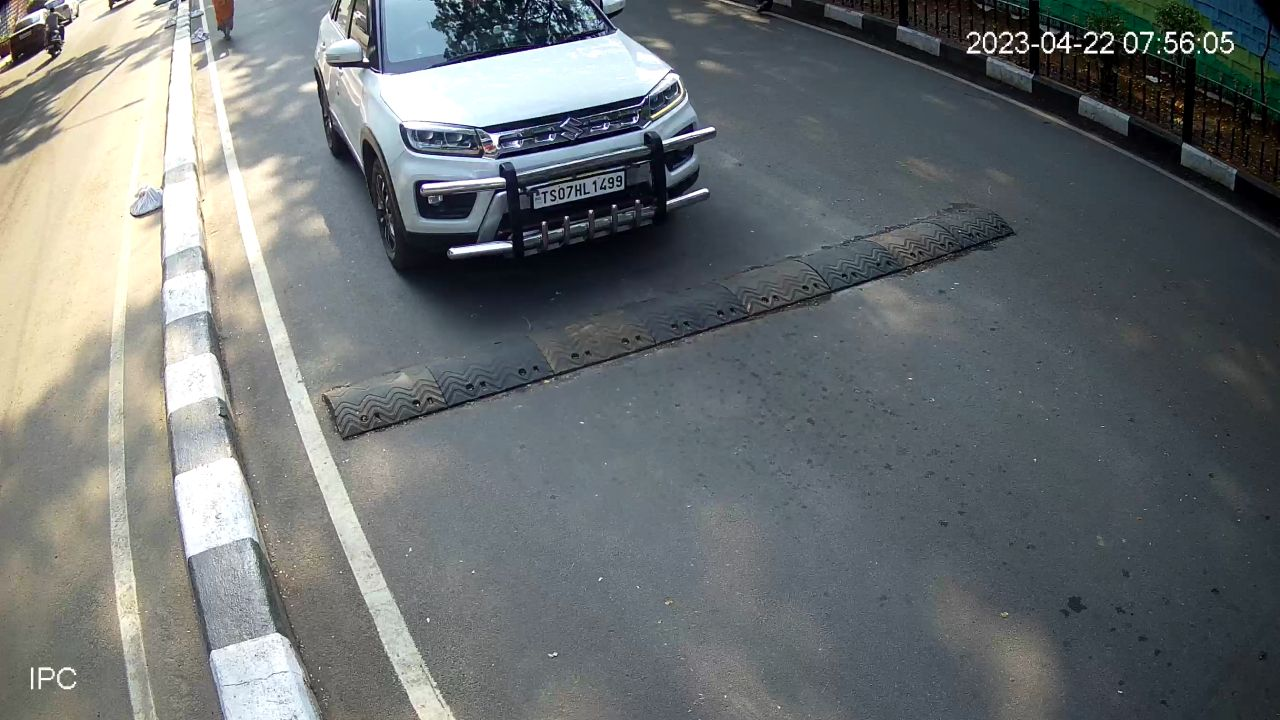license_plate: (528, 159, 631, 218)
